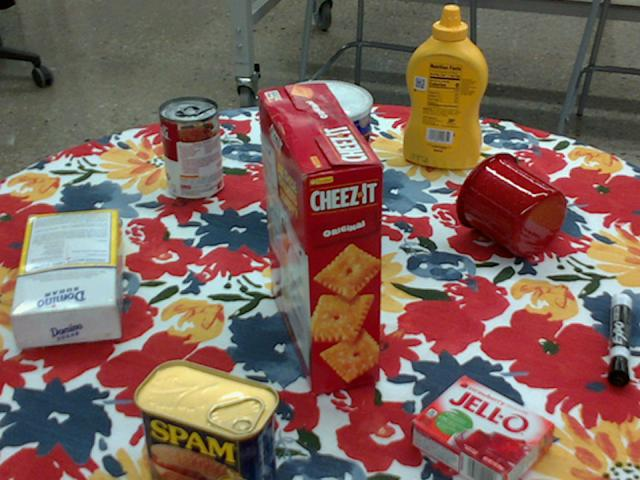cracker_box: (257, 85, 379, 396)
gelatin_box: (411, 375, 556, 479)
large_marker: (608, 291, 632, 383)
master_chef_can: (274, 79, 372, 236)
mug: (455, 152, 567, 256)
mustard_bottle: (403, 6, 487, 169)
potted_meat_can: (129, 361, 275, 479)
sugar_box: (11, 211, 122, 347)
tomato_soup_can: (159, 96, 222, 200)
tuna_fish_can: (279, 116, 347, 168)
